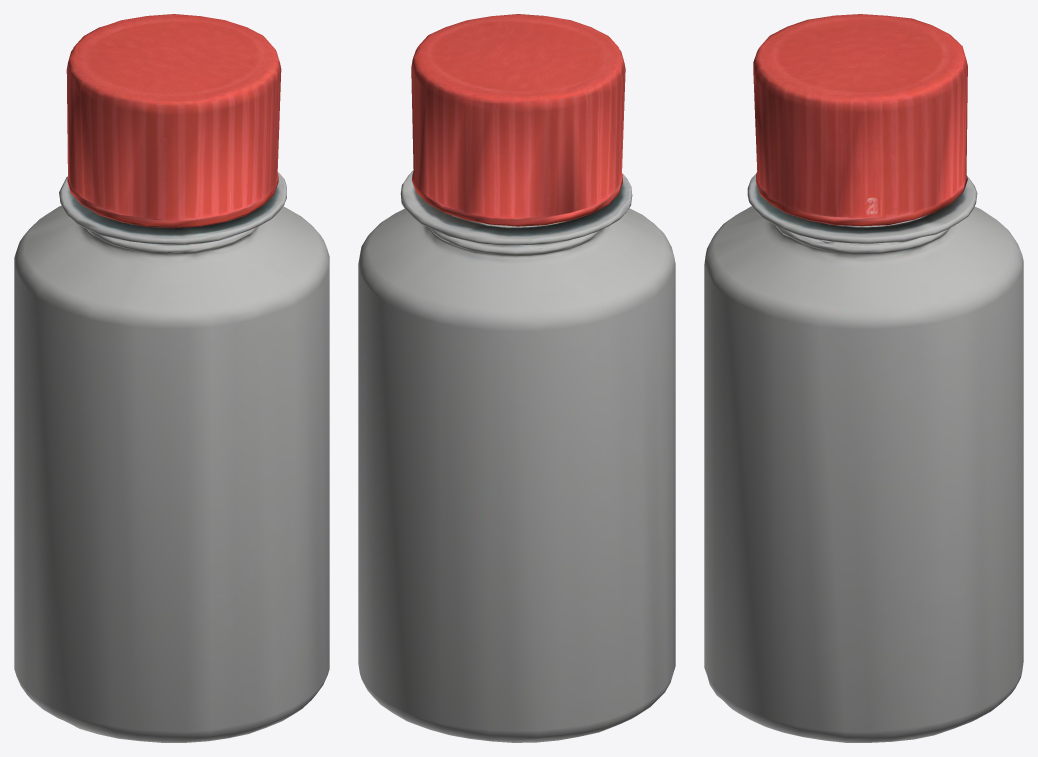
Rendered from chemical_bottle_1778830207.glb.
The picture shows the model from 3 angles, left to right: view 1: azimuth 30°, elevation 25°; view 2: azimuth 150°, elevation 25°; view 3: azimuth 270°, elevation 25°; orthographic projection.
Visible parts, largest first — view 1: tripo_node_5106e411-ae76-4153-a651-f2cb180fefb4; view 2: tripo_node_5106e411-ae76-4153-a651-f2cb180fefb4; view 3: tripo_node_5106e411-ae76-4153-a651-f2cb180fefb4.
Part boxes in pixels (x1,y1,x2,y2): tripo_node_5106e411-ae76-4153-a651-f2cb180fefb4: [14, 14, 329, 742]; tripo_node_5106e411-ae76-4153-a651-f2cb180fefb4: [358, 14, 675, 742]; tripo_node_5106e411-ae76-4153-a651-f2cb180fefb4: [704, 14, 1023, 742].
Size of the model in its own units: 0.4551 by 0.998 by 0.459.
1 material, 1 textured.
